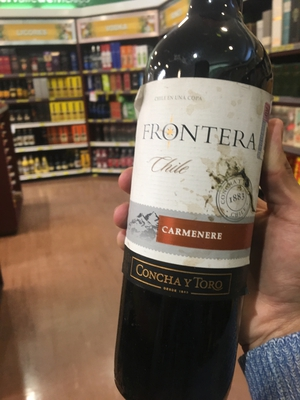frontera carmenere: (106, 13, 270, 400)
